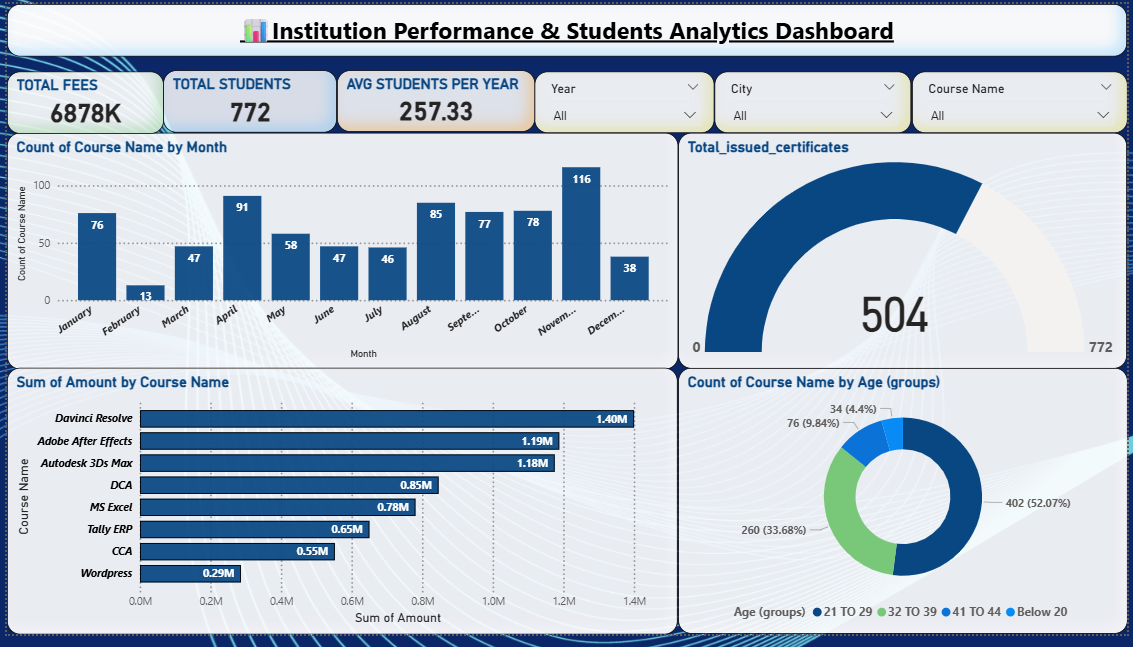

The page's visual inventory and layout, read from the dashboard file:
{"tool":"powerbi","page":{"name":"Page 1","canvas":[1280,720],"ordinal":0},"visuals":[{"type":"clusteredColumnChart","fields":{"Category":["Student Course Details.Date of Join.Variation.Date Hierarchy.Month"],"Y":["CountNonNull(Student Course Details.Course Name)"]},"box":[0,146.6,767,270],"z":0},{"type":"donutChart","fields":{"Y":["CountNonNull(Student Course Details.Course Name)"],"Category":["Student Course Details.Age (groups)"]},"box":[766.3,415.2,512.5,304.3],"z":1000},{"type":"clusteredBarChart","fields":{"Category":["Student Course Details.Course Name"],"Y":["Sum(Student Course Details.Amount)"]},"box":[0,415.8,766.7,304.5],"z":2000},{"type":"card","title":"TOTAL FEES","fields":{"Values":["Sum(Student Course Details.Amount)"]},"box":[0,77.5,178.8,71.5],"z":3000},{"type":"actionButton","box":[0,0,100,40],"z":4000},{"type":"card","title":"TOTAL STUDENTS","fields":{"Values":["CountNonNull(Personal Details.Student Name)"]},"box":[178.6,76.4,198.3,71.5],"z":5000},{"type":"gauge","title":"Total_issued_certificates","fields":{"Y":["Personal Details.Count_yes"]},"box":[767.7,146.6,512.6,269.4],"z":6000},{"type":"slicer","title":"YEAR","fields":{"Values":["Student Course Details.Date of Join.Variation.Date Hierarchy.Year"]},"box":[603.4,77.7,205.7,70.3],"z":7000},{"type":"slicer","fields":{"Values":["Personal Details.City"]},"box":[809.1,77.7,224.6,70.3],"z":8000},{"type":"slicer","fields":{"Values":["Student Course Details.Course Name"]},"box":[1033.6,77.7,246.6,70.3],"z":9000},{"type":"card","title":"AVG STUDENTS PER YEAR","fields":{"Values":["Personal Details.average student per year"]},"box":[376.7,76.3,226.5,70.3],"z":10000},{"type":"textbox","box":[101.3,0,1178.9,60.8],"z":11000}]}

Visuals, with their boxes in screenshot pixels (x1, y1, x2, y2), scaled from the page's 1280x720 canvas onto the 1133x647 screenshot:
clusteredColumnChart - Student Course Details.Date of Join.Variation.Date Hierarchy.Month x CountNonNull(Student Course Details.Course Name): x1=0, y1=132, x2=679, y2=374
donutChart - CountNonNull(Student Course Details.Course Name) x Student Course Details.Age (groups): x1=678, y1=373, x2=1132, y2=646
clusteredBarChart - Student Course Details.Course Name x Sum(Student Course Details.Amount): x1=0, y1=374, x2=679, y2=646
"TOTAL FEES" card: x1=0, y1=70, x2=158, y2=134
actionButton: x1=0, y1=0, x2=89, y2=36
"TOTAL STUDENTS" card: x1=158, y1=69, x2=334, y2=133
"Total_issued_certificates" gauge: x1=680, y1=132, x2=1132, y2=374
"YEAR" slicer: x1=534, y1=70, x2=716, y2=133
slicer - Personal Details.City: x1=716, y1=70, x2=915, y2=133
slicer - Student Course Details.Course Name: x1=915, y1=70, x2=1132, y2=133
"AVG STUDENTS PER YEAR" card: x1=333, y1=69, x2=534, y2=132
textbox: x1=90, y1=0, x2=1132, y2=55
